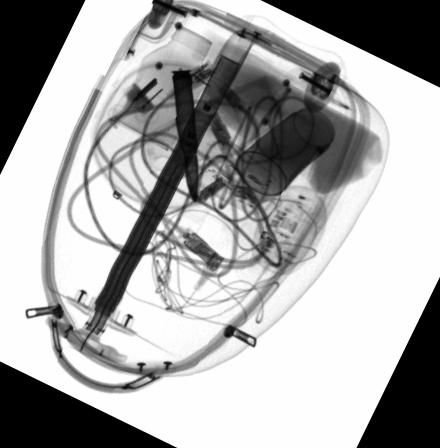Bullet: (171, 68, 199, 204)
